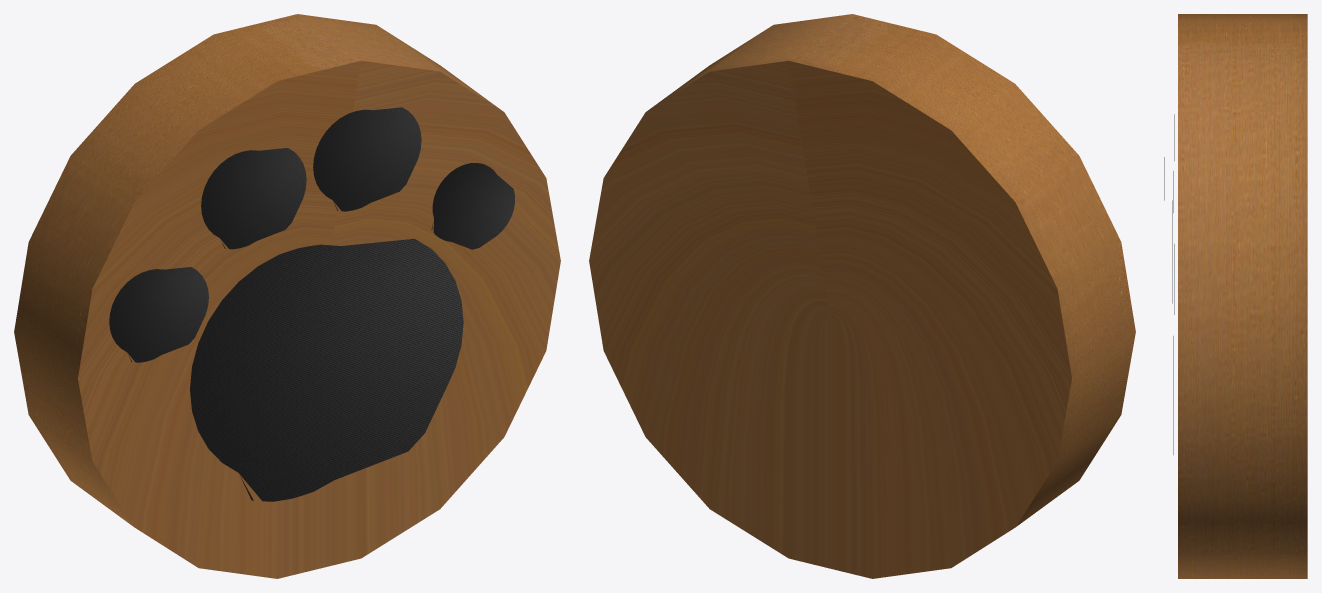
File: Dog palm.FBX
3 views of the same model, side by side, from view 1: azimuth 30°, elevation 25°; view 2: azimuth 150°, elevation 25°; view 3: azimuth 270°, elevation 25° (orthographic).
Visible parts, largest first — view 1: Cylinder002, Cylinder001, Cylinder004, Cylinder005, Cylinder006, Cylinder003; view 2: Cylinder002; view 3: Cylinder002, Cylinder001.
Boxes of the visible parts, box(x1,y1,x2,y2) form: Cylinder002: box(14, 14, 560, 578); Cylinder001: box(190, 238, 463, 501); Cylinder004: box(313, 107, 421, 211); Cylinder005: box(201, 148, 306, 249); Cylinder006: box(109, 267, 208, 362); Cylinder003: box(431, 163, 514, 249); Cylinder002: box(589, 14, 1135, 578); Cylinder002: box(1178, 14, 1307, 578); Cylinder001: box(1172, 200, 1173, 454).
Bounding box in the file's own units: 17.29 × 17.03 × 4.37.
Materials: 6 (6 with a texture image).
